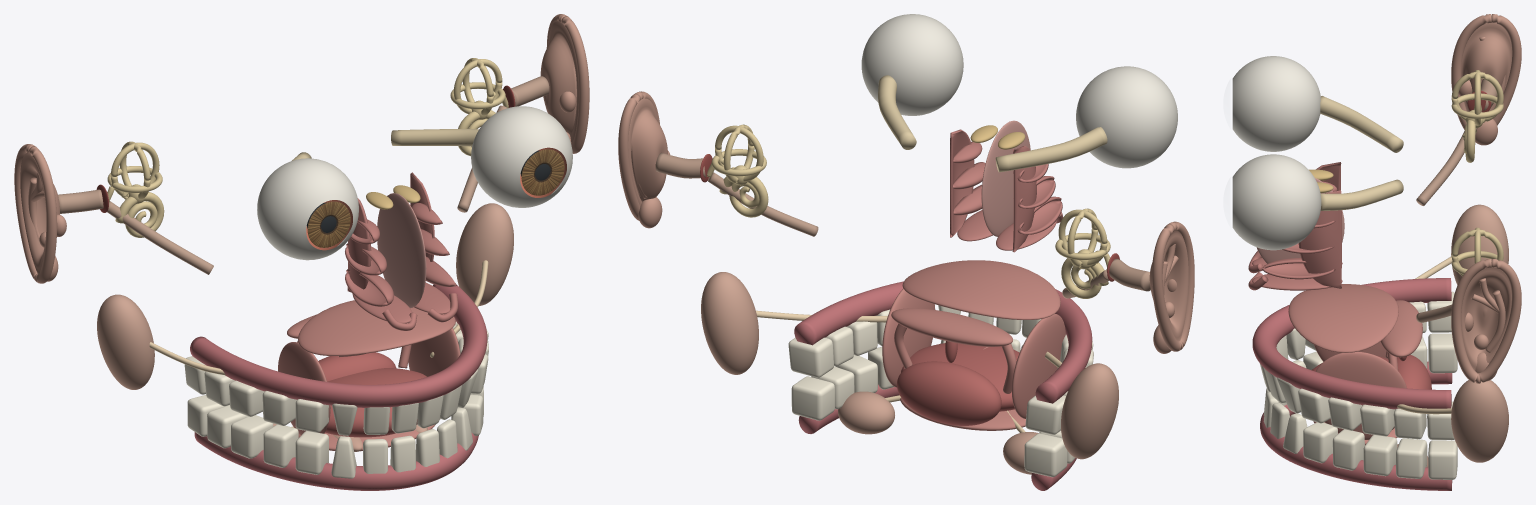
File: lab-head-fitted-v12-ultra.glb
3 views of the same model, side by side, from view 1: azimuth 30°, elevation 25°; view 2: azimuth 150°, elevation 25°; view 3: azimuth 270°, elevation 25° (orthographic). The views are drawn at different scales.
Parts seen in each view (by area): view 1: Study tooth True--1-0, Upper gums, Palatoglossal arch.001, Submandibular gland, Nasal floor.001, Scleral shell.001, Scleral shell, Rounded septum, ear-right-ears-Nerve and ear structures, Uvula, ear-left-Shaped pinna.001, ear-right-Rolled helix (+10 smaller); view 2: Palatoglossal arch.001, Submandibular gland, Study tooth True--1-0, Scleral shell, Uvula, Scleral shell.001, Nasal floor.001, Upper gums, ear-left-ears-Nerve and ear structures, ear-right-ears-Nerve and ear structures, ear-left-Shaped pinna.001, Rounded septum (+9 smaller); view 3: Study tooth True--1-0, Palatoglossal arch.001, Upper gums, Scleral shell.001, Scleral shell, Submandibular gland, Nasal floor.001, ear-left-Rolled helix.001, ear-left-Shaped pinna.001, ear-right-Shaped pinna, ear-right-Rolled helix, ear-right-ears-Nerve and ear structures (+11 smaller).
Boxes of the visible parts, box(x1,y1,x2,y2) form: Study tooth True--1-0: box(184, 321, 488, 478); Upper gums: box(190, 284, 487, 490); Palatoglossal arch.001: box(278, 300, 460, 451); Submandibular gland: box(97, 203, 513, 451); Nasal floor.001: box(345, 172, 458, 330); Scleral shell.001: box(471, 106, 572, 207); Scleral shell: box(257, 158, 358, 260); Rounded septum: box(377, 193, 426, 308); ear-right-ears-Nerve and ear structures: box(107, 141, 164, 237); Uvula: box(318, 352, 426, 437); ear-left-Shaped pinna.001: box(540, 20, 578, 144); ear-right-Rolled helix: box(14, 144, 57, 283); Palatoglossal arch.001: box(882, 260, 1065, 430); Submandibular gland: box(701, 272, 1118, 474); Study tooth True--1-0: box(788, 305, 1093, 477); Scleral shell: box(1076, 66, 1177, 168); Uvula: box(896, 341, 1019, 425); Scleral shell.001: box(861, 14, 963, 115); Nasal floor.001: box(950, 129, 1062, 252); Upper gums: box(794, 281, 1092, 490); ear-left-ears-Nerve and ear structures: box(707, 124, 768, 217); ear-right-ears-Nerve and ear structures: box(1055, 208, 1110, 298); ear-left-Shaped pinna.001: box(628, 97, 667, 206); Rounded septum: box(981, 120, 1030, 236); Study tooth True--1-0: box(1259, 291, 1457, 479); Palatoglossal arch.001: box(1288, 284, 1422, 444); Upper gums: box(1252, 278, 1452, 490); Scleral shell.001: box(1232, 154, 1321, 250); Scleral shell: box(1232, 56, 1320, 151); Submandibular gland: box(1324, 204, 1508, 467); Nasal floor.001: box(1248, 162, 1342, 290); ear-left-Rolled helix.001: box(1451, 258, 1521, 383); ear-left-Shaped pinna.001: box(1461, 261, 1511, 370); ear-right-Shaped pinna: box(1461, 22, 1512, 111); ear-right-Rolled helix: box(1451, 14, 1521, 129); ear-right-ears-Nerve and ear structures: box(1451, 70, 1503, 162).
Size of the model in its own units: 18.12 by 11.31 by 9.17.
